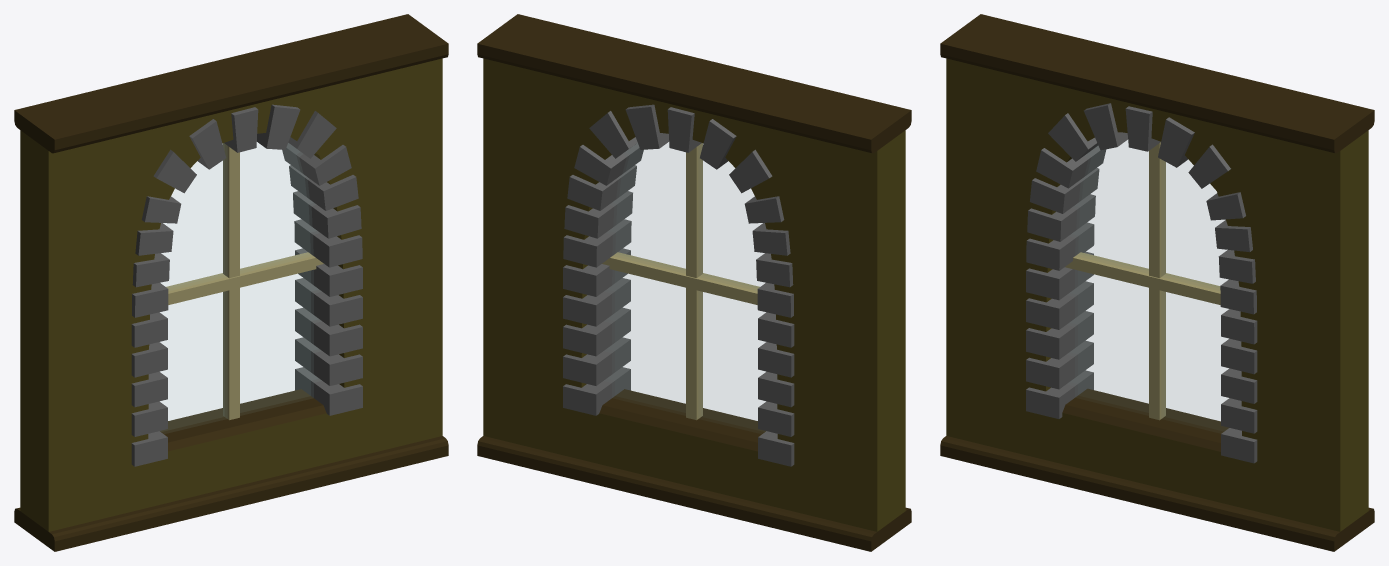
File: WallWindow.fbx
3 renders of one model, left to right at view 1: azimuth 30°, elevation 25°; view 2: azimuth 150°, elevation 25°; view 3: azimuth 330°, elevation 25°, orthographic.
Parts seen in each view (by area): view 1: WallWindow; view 2: WallWindow; view 3: WallWindow.
Part boxes in pixels (box(x1,y1,x2,y2)): WallWindow: box(14, 14, 448, 551); WallWindow: box(477, 14, 911, 551); WallWindow: box(940, 14, 1374, 551).
Size of the model in its own units: 400 by 400 by 71.24.
